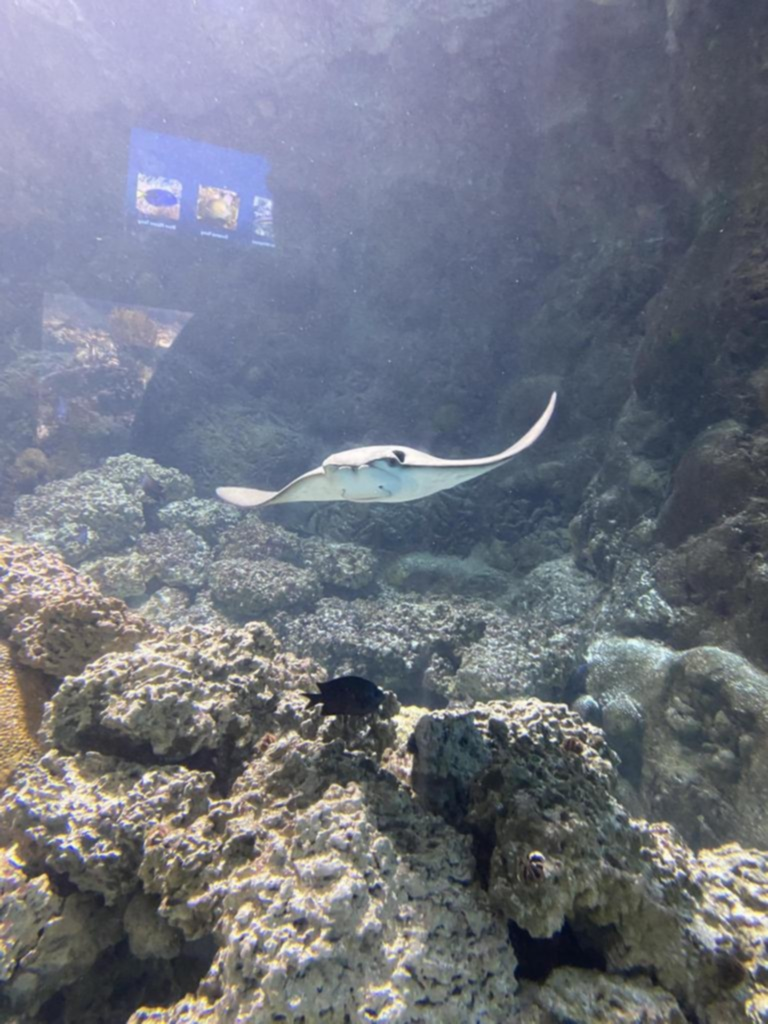fish: (296, 674, 388, 722)
stingray: (215, 390, 556, 508)
